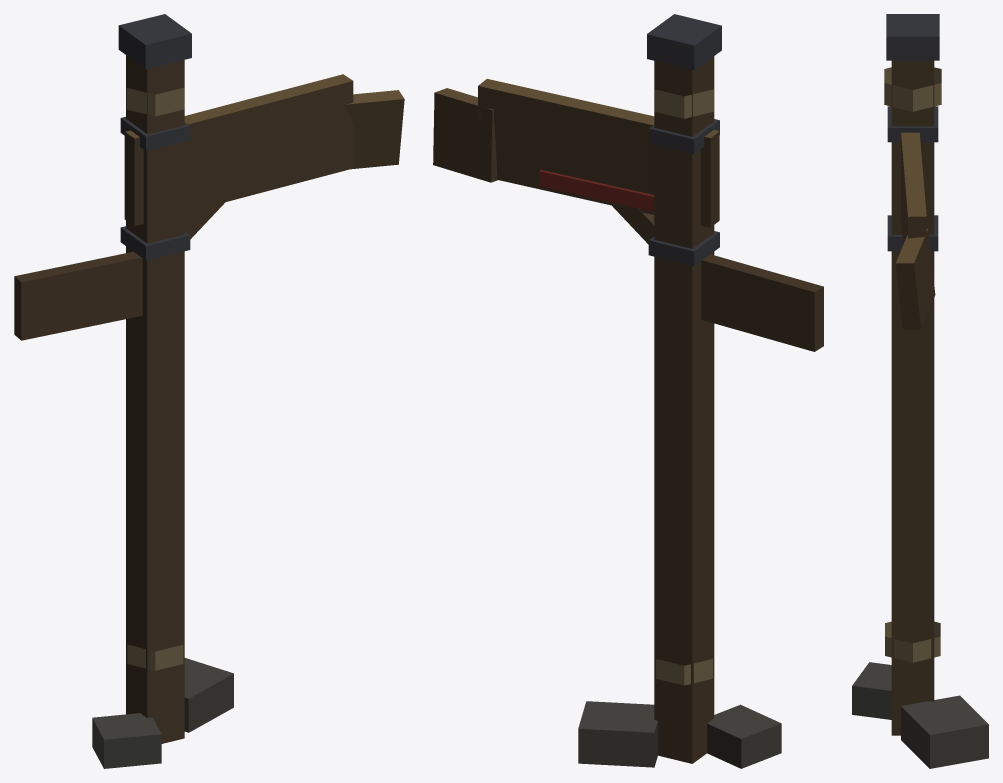
File: road-sign.glb
The picture shows the model from 3 angles, left to right: view 1: azimuth 30°, elevation 25°; view 2: azimuth 150°, elevation 25°; view 3: azimuth 270°, elevation 25°; orthographic projection. The views are drawn at different scales.
Visible parts, largest first — view 1: RoadSign; view 2: RoadSign; view 3: RoadSign.
Boxes of the visible parts, bbox=[...] form: RoadSign: bbox=[14, 14, 404, 768]; RoadSign: bbox=[433, 14, 823, 768]; RoadSign: bbox=[852, 14, 988, 768].
Size of the model in its own units: 0.8151 by 1.45 by 0.2565.
1 material, 1 textured.
